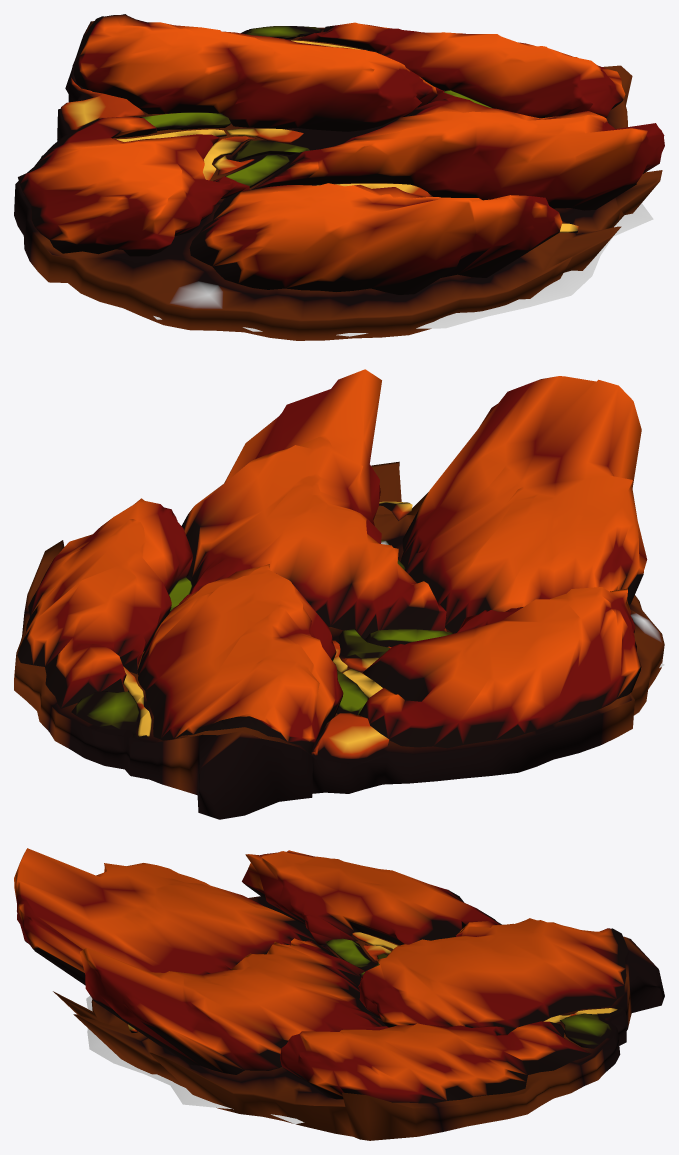
File: SM_D08_wok.fbx
3 renders of one model, top to bottom at view 1: azimuth 30°, elevation 25°; view 2: azimuth 150°, elevation 25°; view 3: azimuth 270°, elevation 25°, orthographic. The views are drawn at different scales.
Parts seen in each view (by area): view 1: SM_D08_wok; view 2: SM_D08_wok; view 3: SM_D08_wok.
Part boxes in pixels (bbox=[...]): SM_D08_wok: bbox=[14, 14, 664, 340]; SM_D08_wok: bbox=[14, 369, 664, 819]; SM_D08_wok: bbox=[14, 848, 664, 1140].
Bounding box in the file's own units: 0.1682 × 0.0464 × 0.1974.
